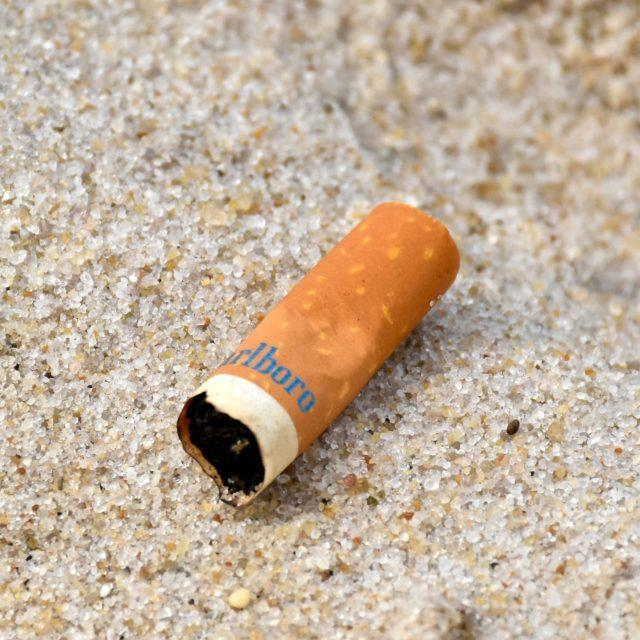Cigarette Butt: (172, 198, 464, 510)
